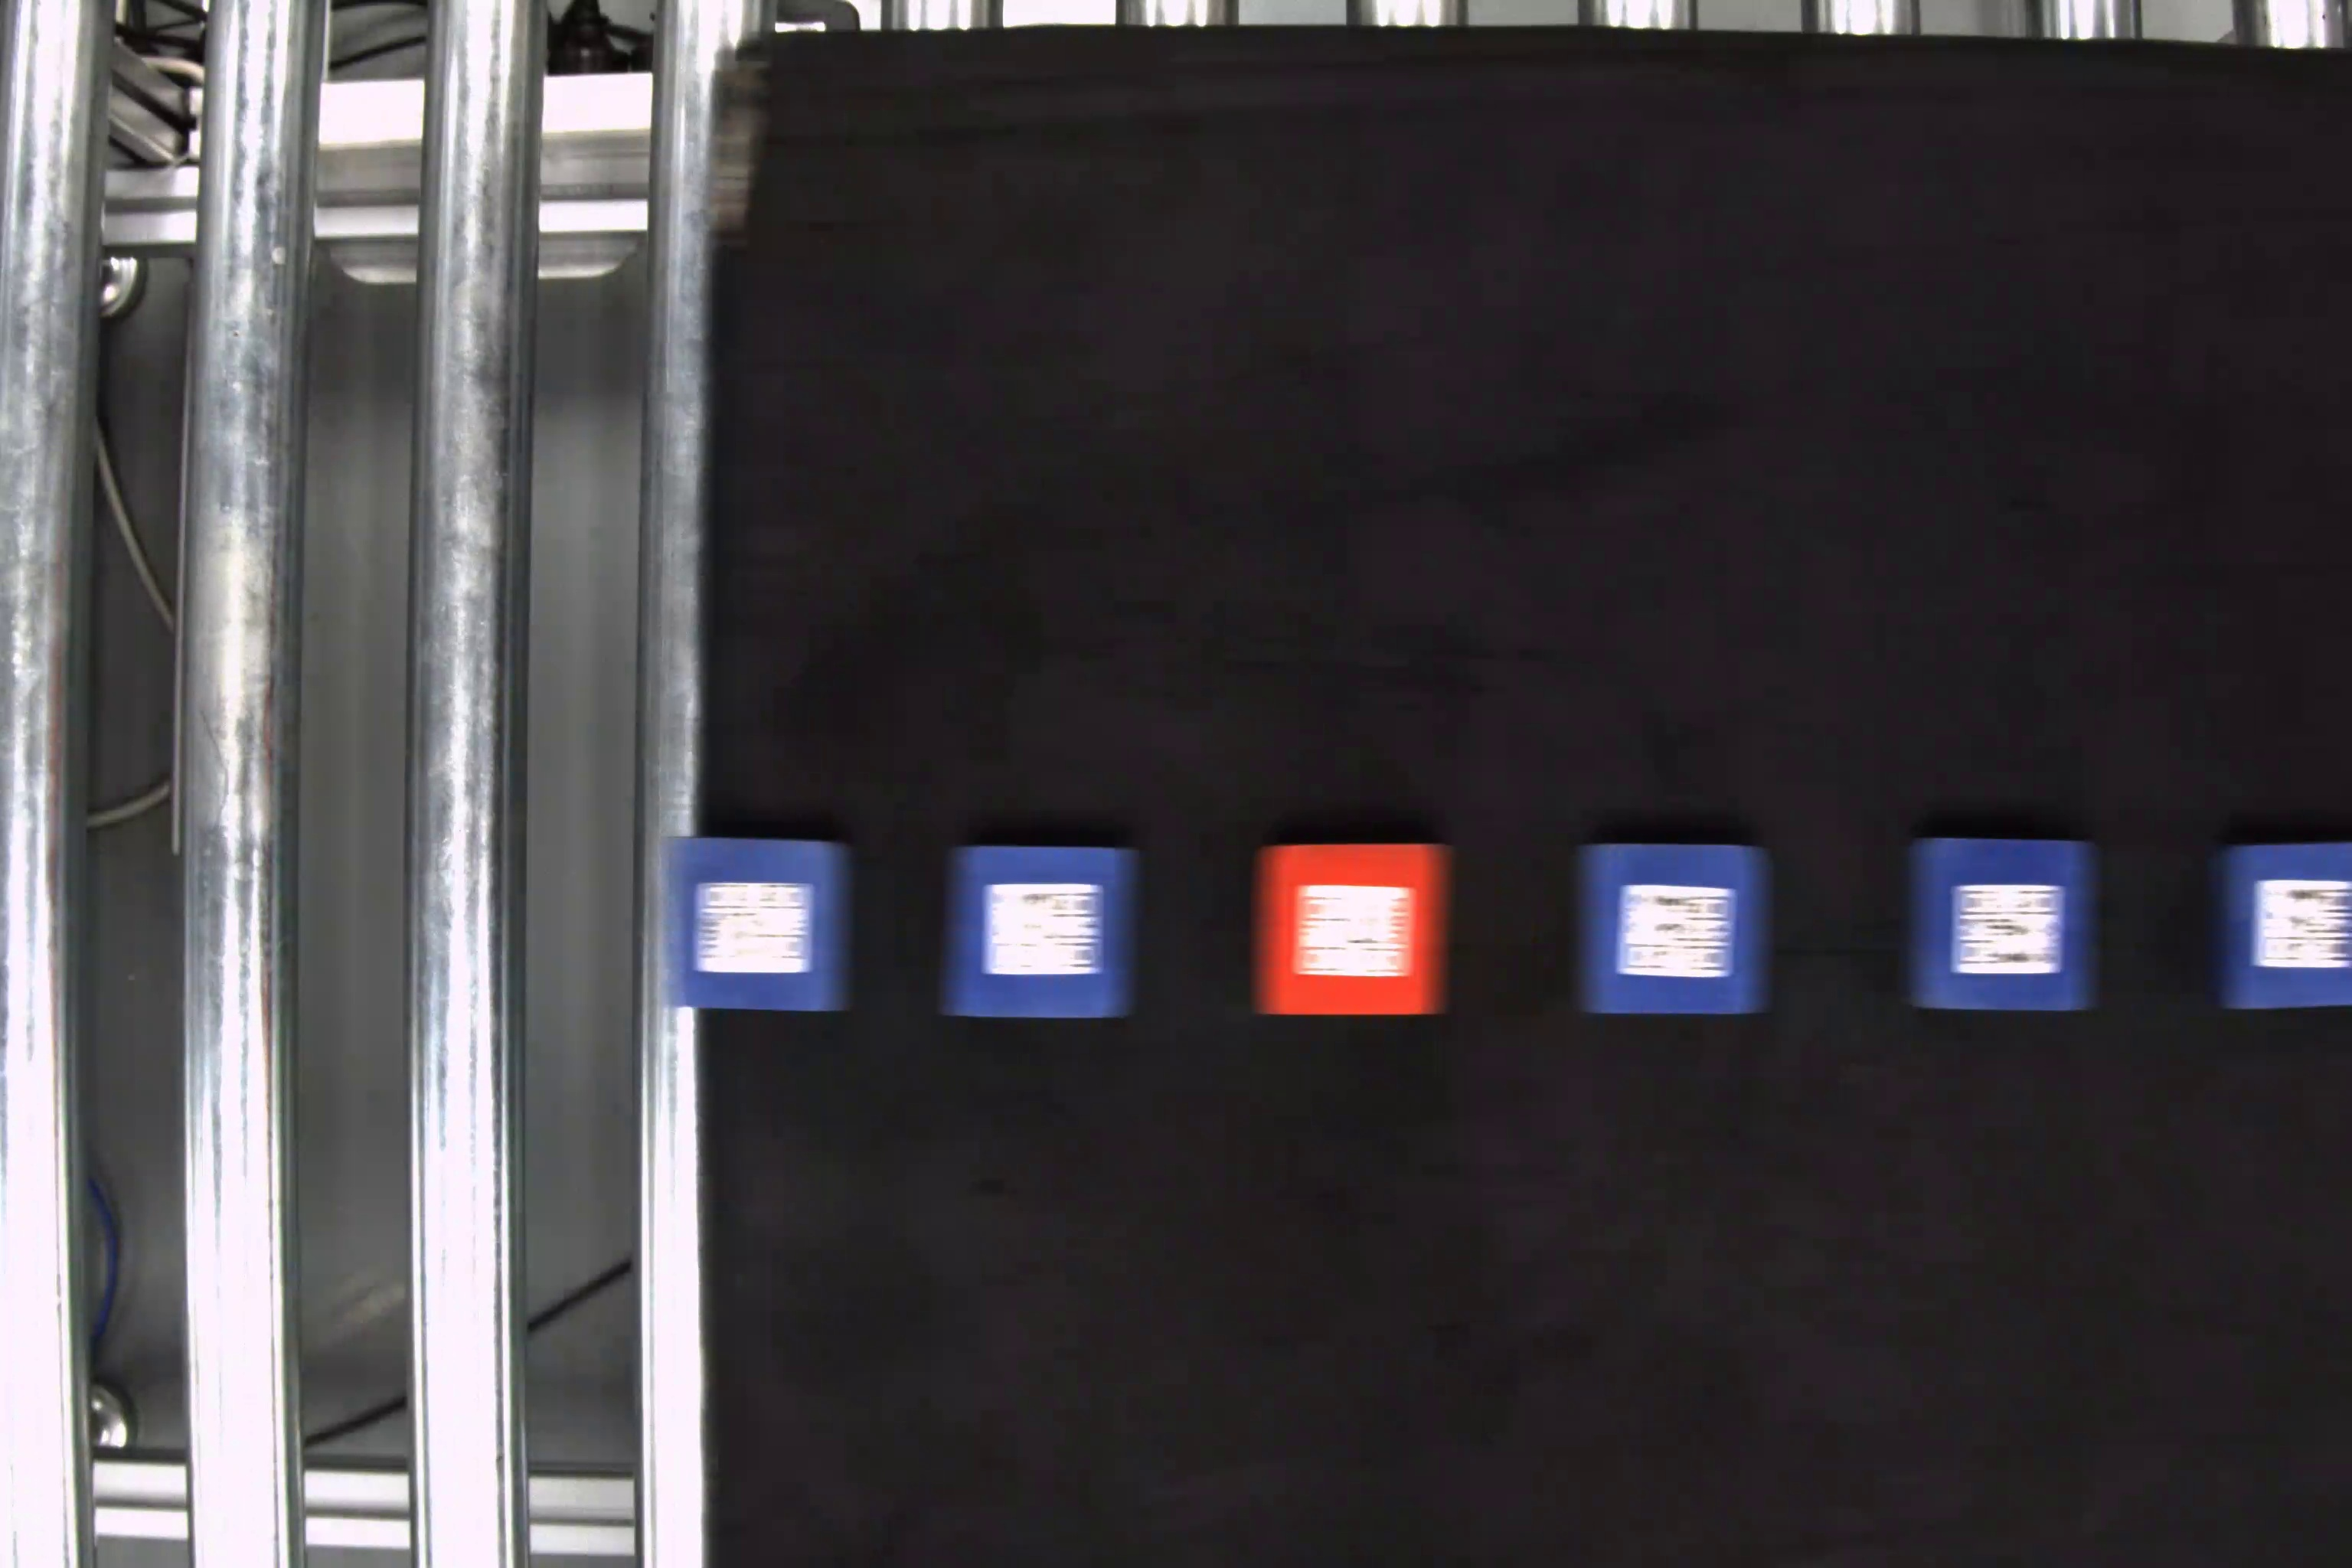wood: (948, 836, 1141, 1025), (1909, 831, 2100, 1018), (1570, 840, 1771, 1013), (661, 831, 857, 1008), (1256, 842, 1452, 1017), (2217, 843, 2352, 1011)
